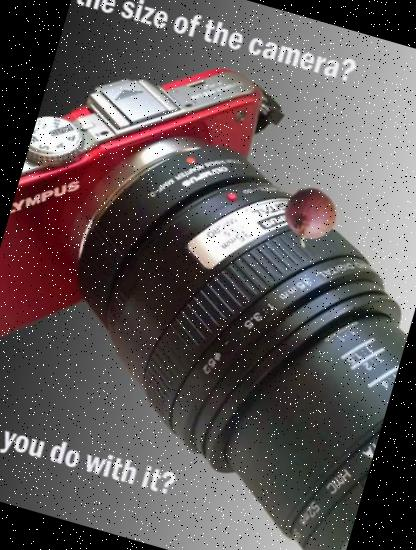Onion: (275, 181, 343, 249)
